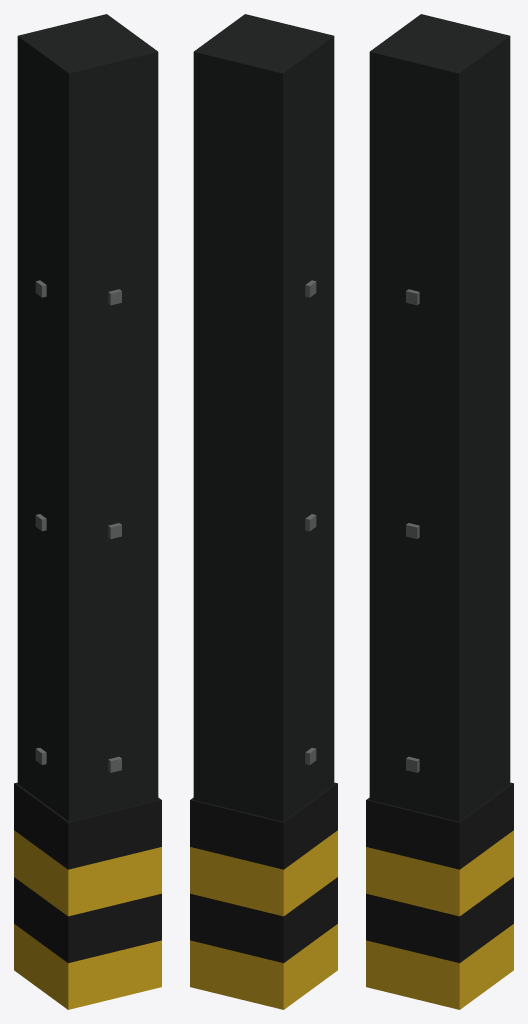
Rendered from wall_corner.glb.
3 renders of one model, left to right at view 1: azimuth 30°, elevation 25°; view 2: azimuth 150°, elevation 25°; view 3: azimuth 330°, elevation 25°, orthographic.
Visible parts, largest first — view 1: surf_metal_wall_corner; view 2: surf_metal_wall_corner; view 3: surf_metal_wall_corner.
Boxes of the visible parts, box(x1,y1,x2,y2) form: surf_metal_wall_corner: box(14, 14, 161, 1009); surf_metal_wall_corner: box(190, 14, 337, 1009); surf_metal_wall_corner: box(366, 14, 513, 1009).
Bounding box in the file's own units: 0.43 × 4 × 0.43.
